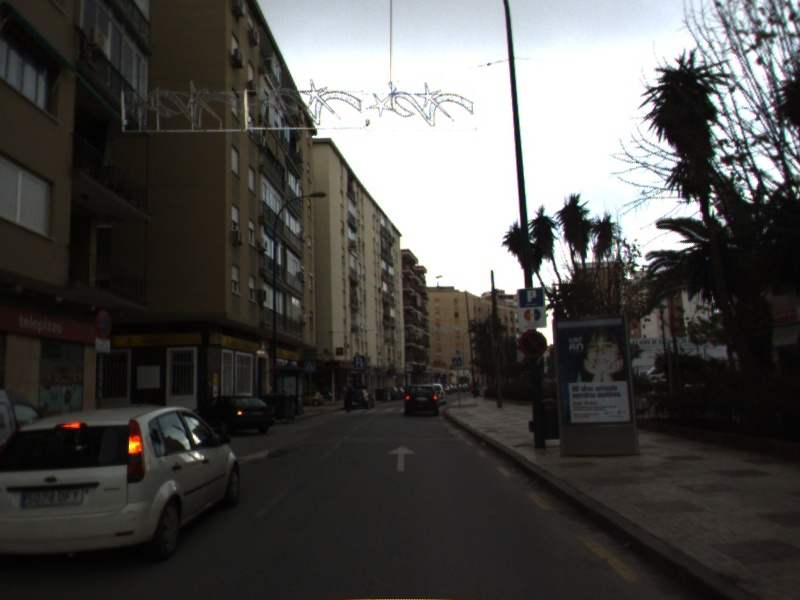STRAIGHT: (384, 443, 420, 473)
